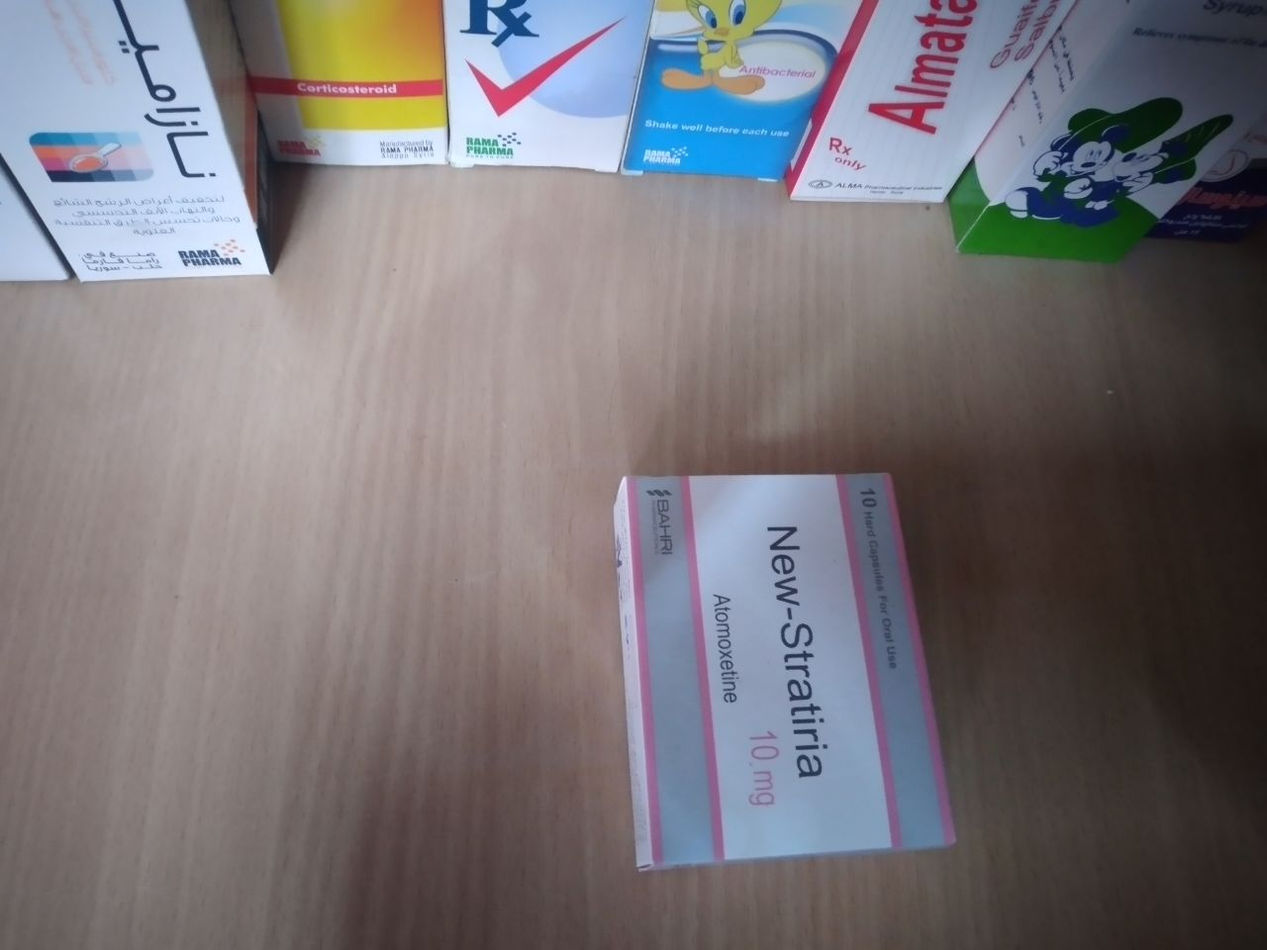Medicine: (609, 453, 985, 925), (0, 0, 302, 287), (948, 0, 1267, 262), (782, 0, 1086, 230), (626, 0, 878, 190), (440, 0, 643, 200), (260, 0, 453, 203)
